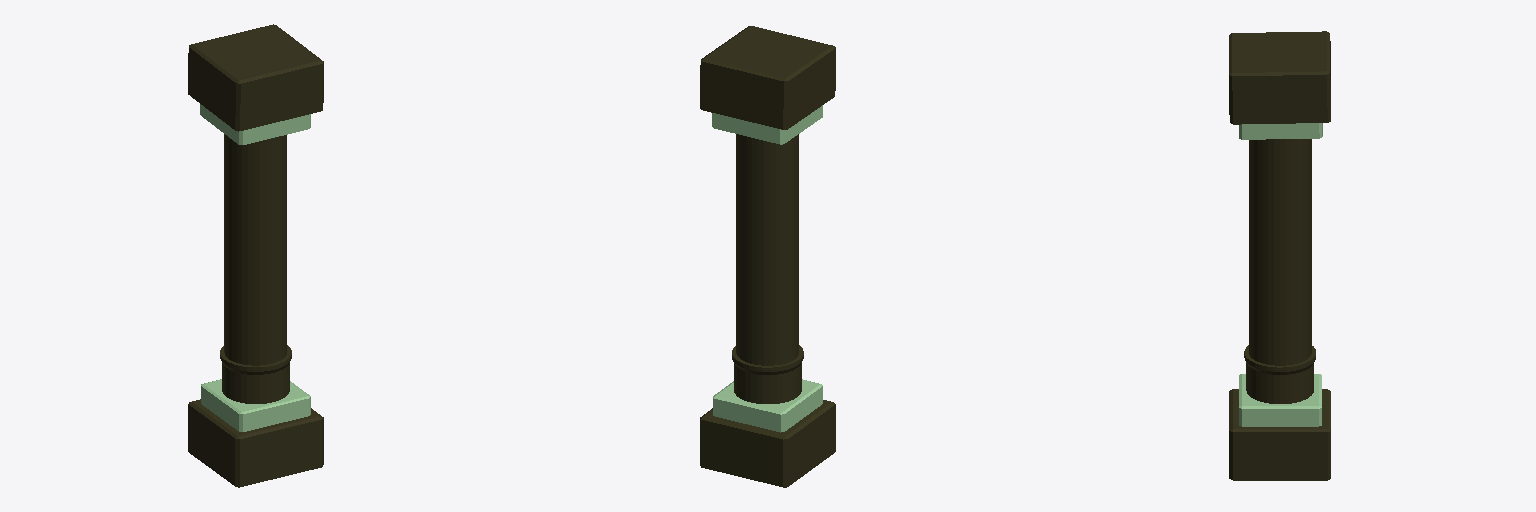
Rendered from pillar1B(F266).obj.
3 renders of one model, left to right at view 1: azimuth 30°, elevation 25°; view 2: azimuth 150°, elevation 25°; view 3: azimuth 270°, elevation 25°, orthographic.
Visible parts, largest first — view 1: Cylinder, Cube.002, Cube, Cube.001, Cube.003; view 2: Cylinder, Cube.002, Cube, Cube.001, Cube.003; view 3: Cylinder, Cube.002, Cube, Cube.001, Cube.003.
Boxes of the visible parts, <box> form: Cylinder: <box>220,134,291,403</box>; Cube.002: <box>188,24,323,131</box>; Cube: <box>188,399,323,487</box>; Cube.001: <box>201,379,310,431</box>; Cube.003: <box>200,104,310,144</box>; Cylinder: <box>732,134,803,403</box>; Cube.002: <box>700,26,835,129</box>; Cube: <box>700,400,835,487</box>; Cube.001: <box>713,379,822,432</box>; Cube.003: <box>712,105,822,144</box>; Cylinder: <box>1244,139,1315,403</box>; Cube.002: <box>1229,31,1330,124</box>; Cube: <box>1229,389,1330,480</box>; Cube.001: <box>1239,374,1321,426</box>; Cube.003: <box>1239,123,1322,139</box>.
Size of the model in its own units: 1.03 by 4.59 by 1.04.